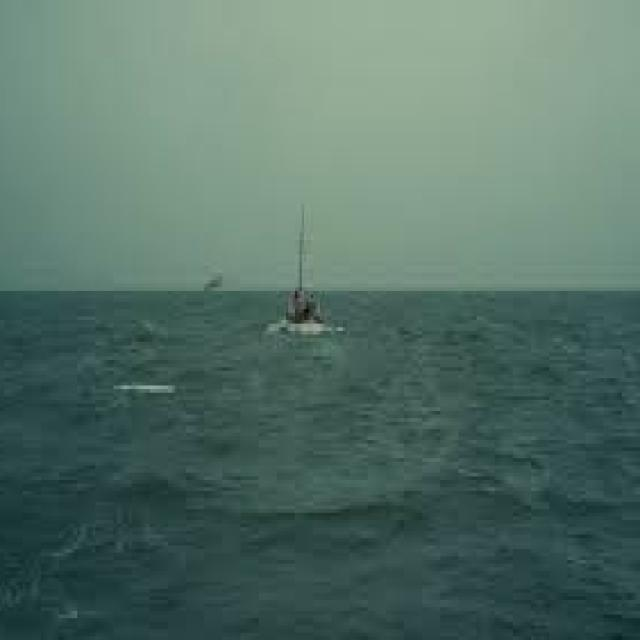fishing boat: (286, 216, 346, 341)
